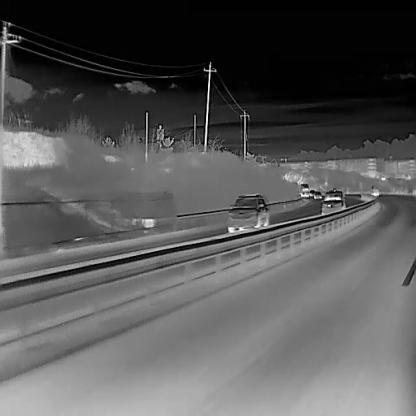car: (225, 193, 269, 233), (320, 190, 345, 216), (299, 183, 309, 198), (370, 184, 380, 196), (313, 190, 322, 199), (307, 189, 316, 198)
